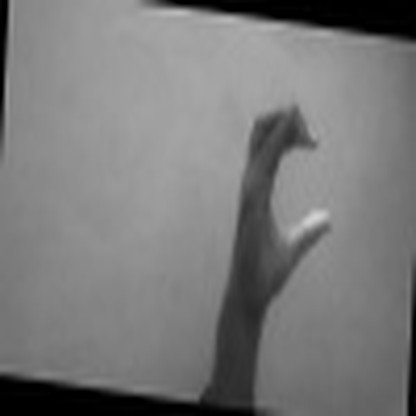c: (232, 95, 335, 295)
